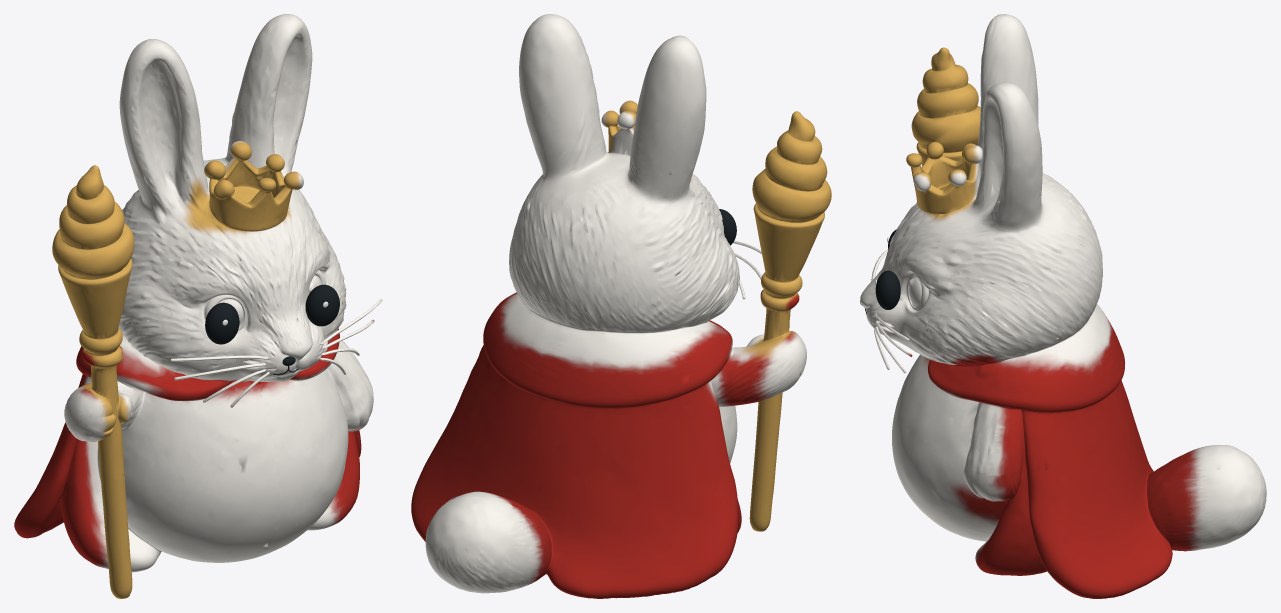
Rendered from gallery-figure.glb.
The picture shows the model from 3 angles, left to right: view 1: azimuth 30°, elevation 25°; view 2: azimuth 150°, elevation 25°; view 3: azimuth 270°, elevation 25°; orthographic projection. The views are drawn at different scales.
Parts seen in each view (by area): view 1: geometry_0, Polished eye, Polished eye.001; view 2: geometry_0; view 3: geometry_0, Polished eye.001.
Part boxes in pixels (x1,y1,x2,y2): geometry_0: (14,14,382,598); Polished eye: (205,302,239,344); Polished eye.001: (305,284,339,326); geometry_0: (411,14,831,598); geometry_0: (860,14,1266,598); Polished eye.001: (875,270,900,309).
Size of the model in its own units: 0.8009 by 1.11 by 0.8404.
